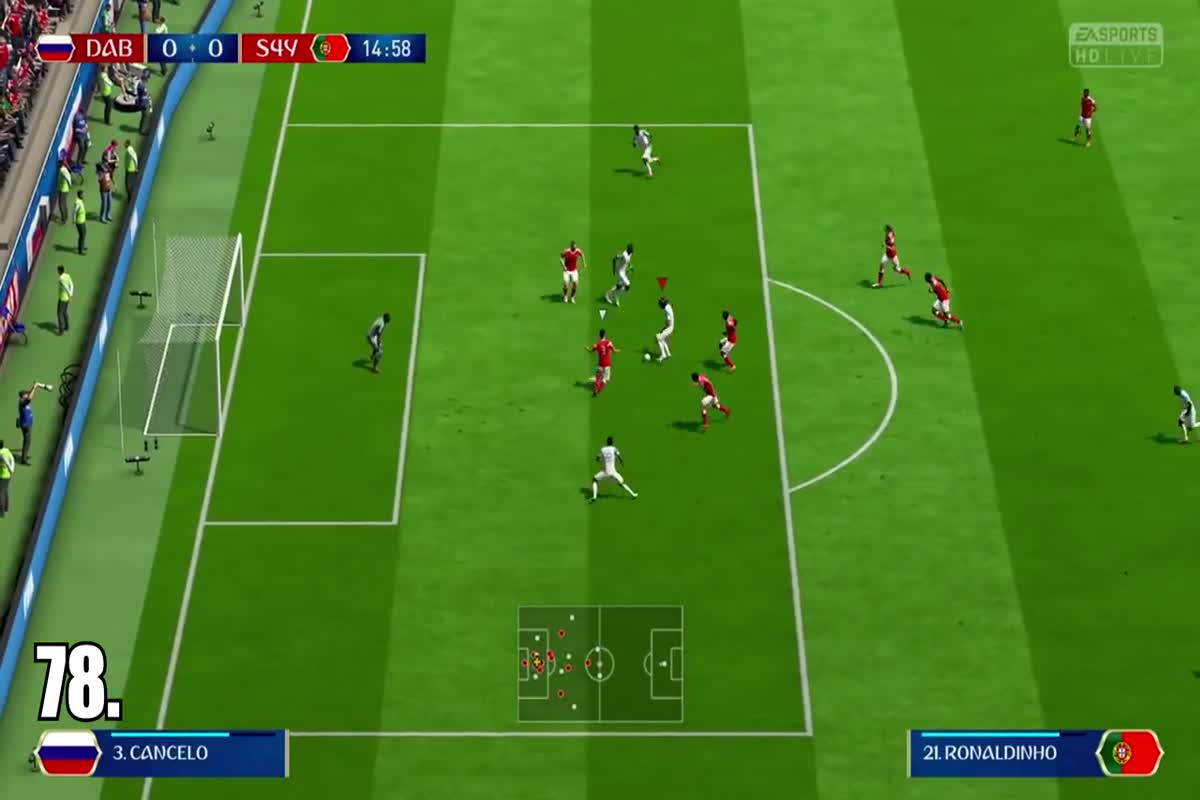ball: (637, 345, 658, 364)
